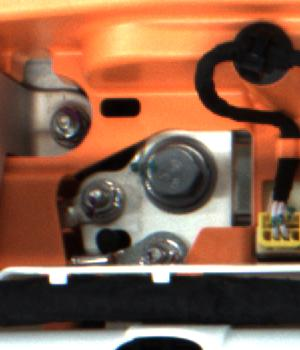nut_b: (135, 127, 220, 213)
screw_s: (77, 182, 130, 224), (43, 104, 86, 146), (144, 238, 187, 265)
